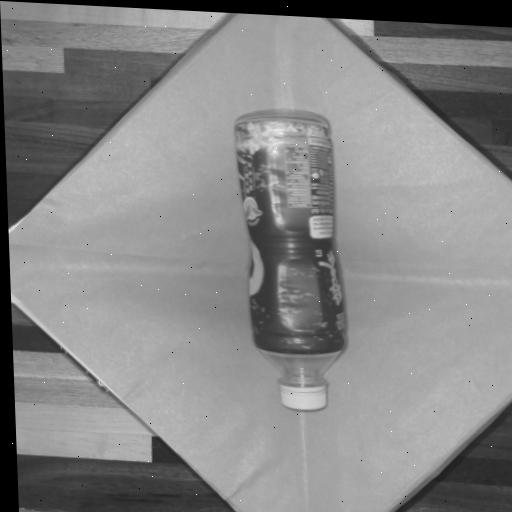bottle: (234, 108, 351, 413)
